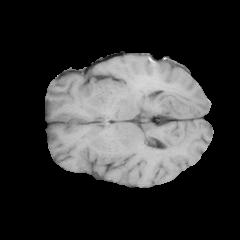glioma: (123, 56, 165, 101)
